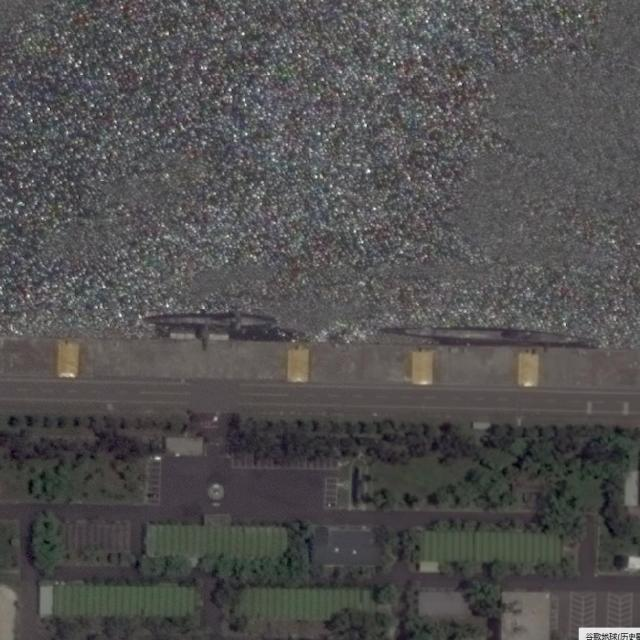Submarine: (383, 321, 592, 348), (142, 312, 277, 328)
